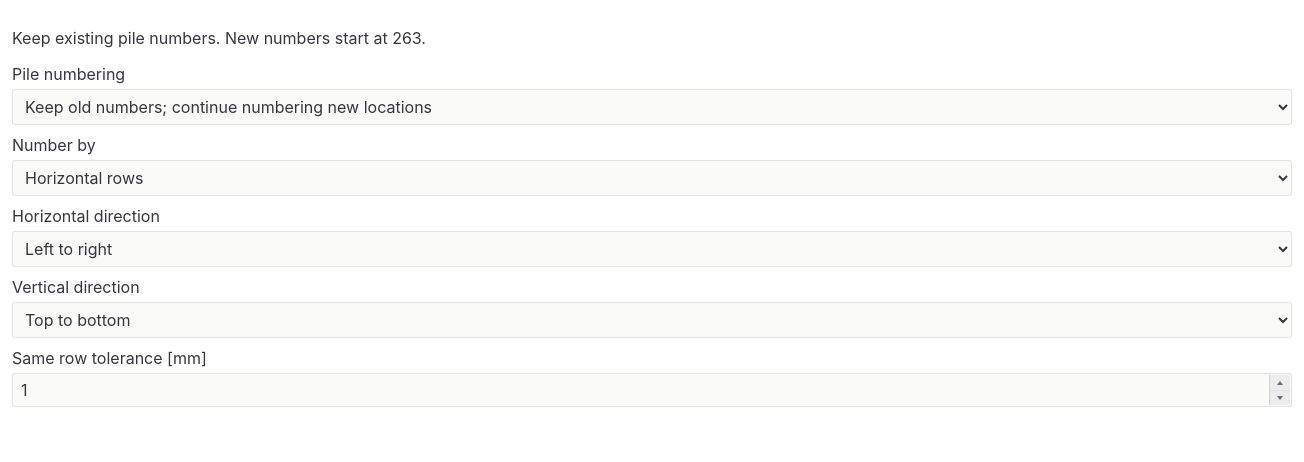
Test case: revision numbering offers retention or renumbering and a start for renumbering
Select "Renumber the entire new pile plan" in the dropdown labelled "Pile numbering" at coordinates (652, 107), box [12,89,1292,125]
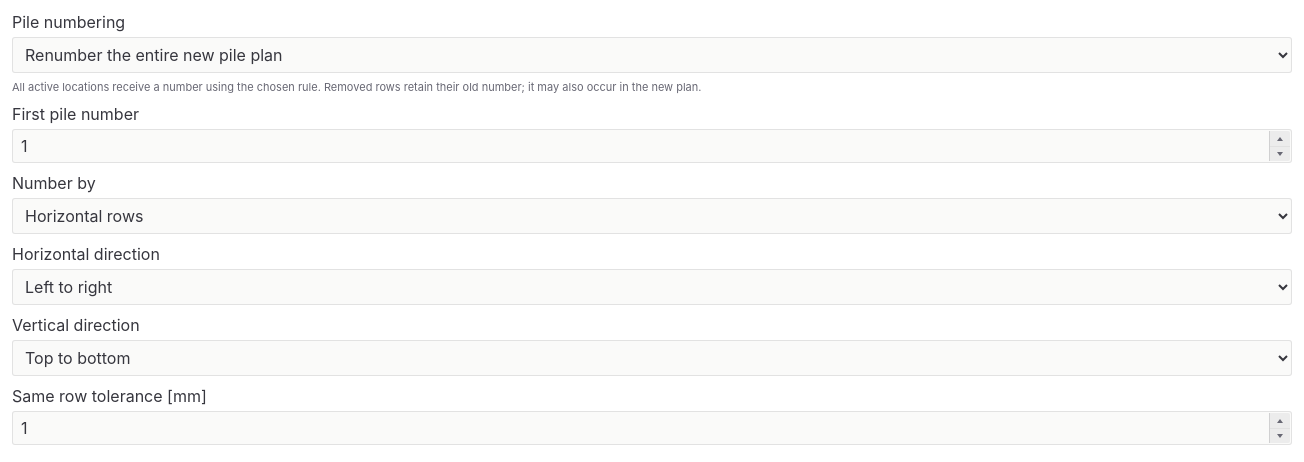
Result: the number field labelled "First pile number" is shown at [12,129,1292,163]
